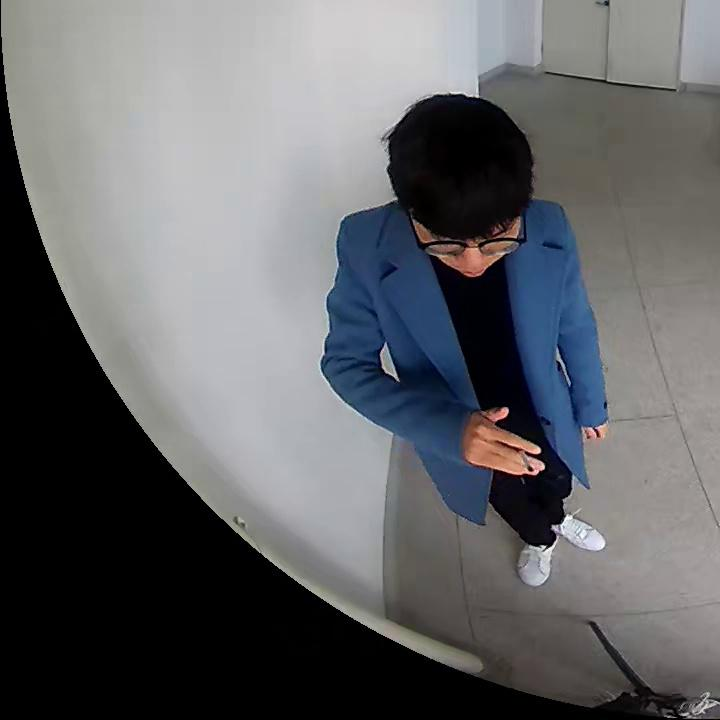handsmoke: (466, 409, 547, 480)
handwithoutsmoke: (581, 423, 609, 446)
mouthwithoutsmoke: (388, 96, 535, 279)
